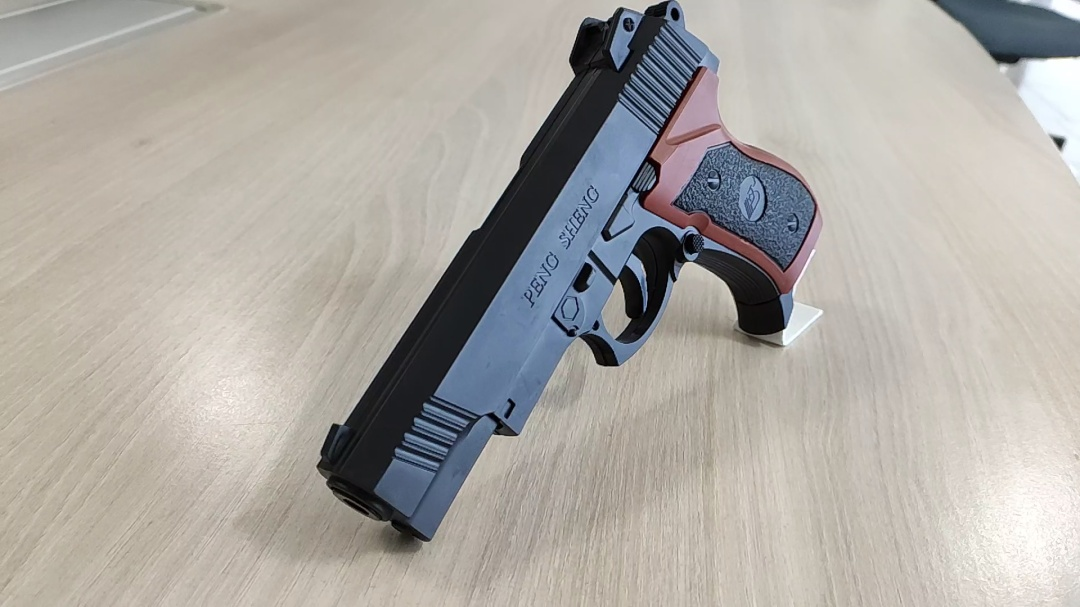gun: (469, 182, 508, 207)
